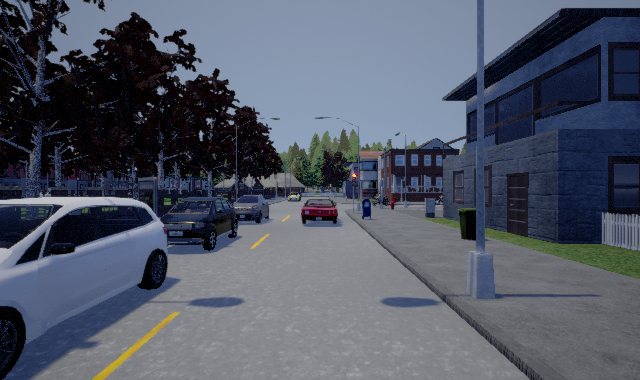traffic_light: (352, 172, 357, 184)
vehicle: (1, 196, 167, 380), (160, 196, 240, 252), (231, 194, 271, 225), (301, 199, 338, 224), (286, 191, 301, 202)
